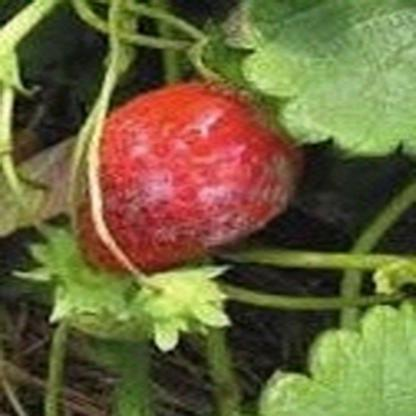Strawberry_Powdery_Mildew_Fruit: (73, 83, 303, 272)
